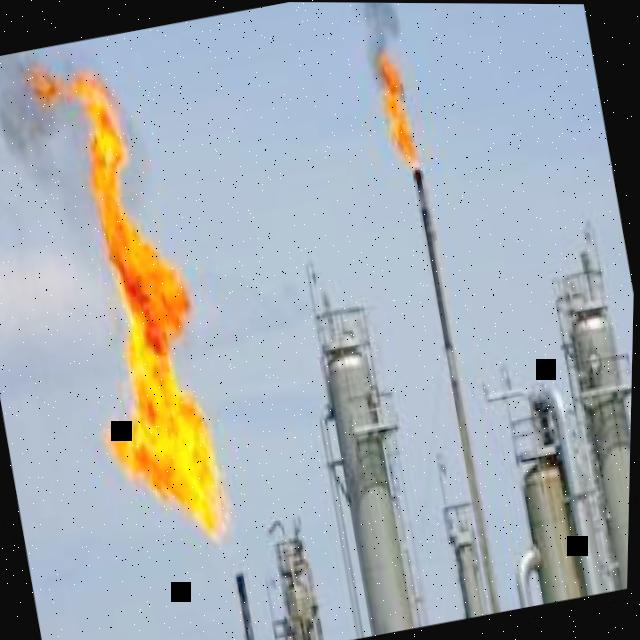fire: (25, 56, 236, 569), (376, 39, 421, 167)
smoke: (0, 53, 105, 249), (57, 52, 156, 233), (355, 2, 399, 104)
